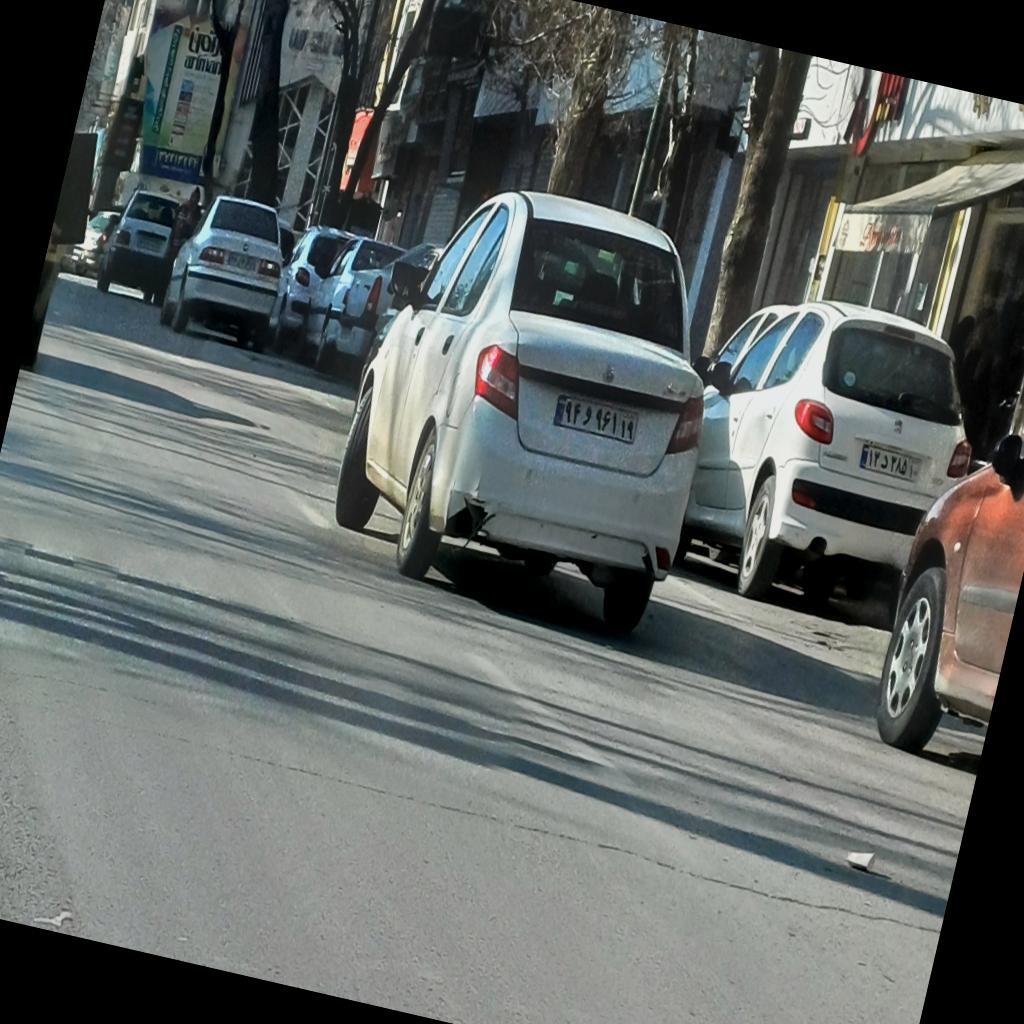Plates: (552, 393, 640, 443), (858, 442, 924, 482)
